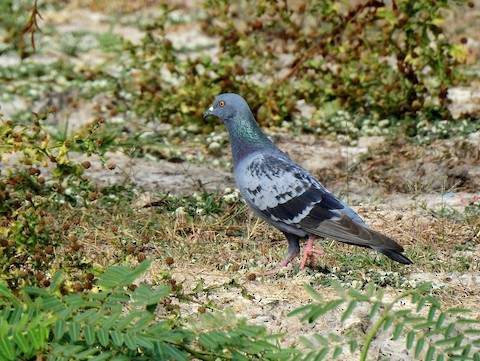pigeon: (198, 91, 417, 278)
